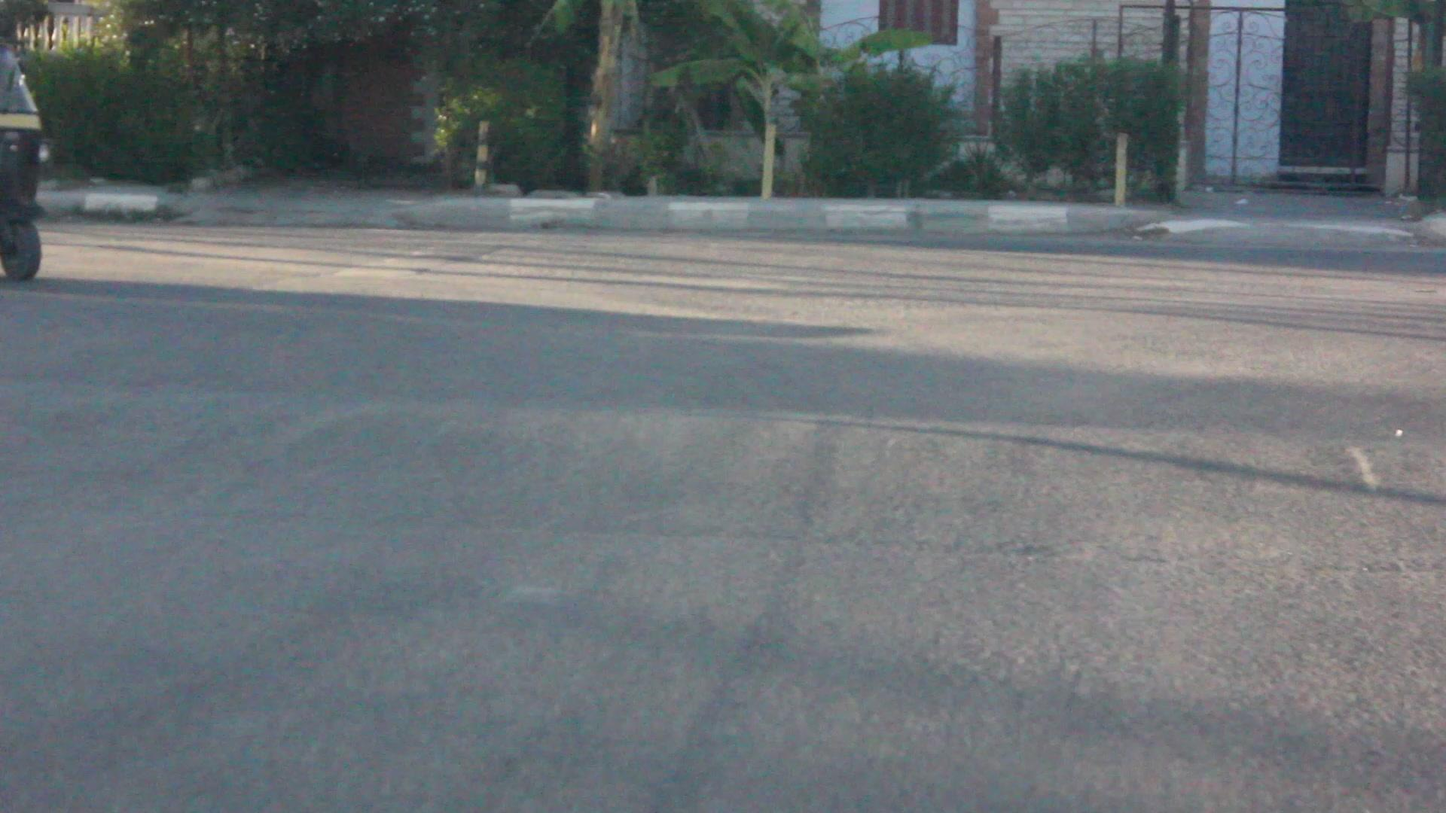Bump: (0, 363, 1446, 593)
